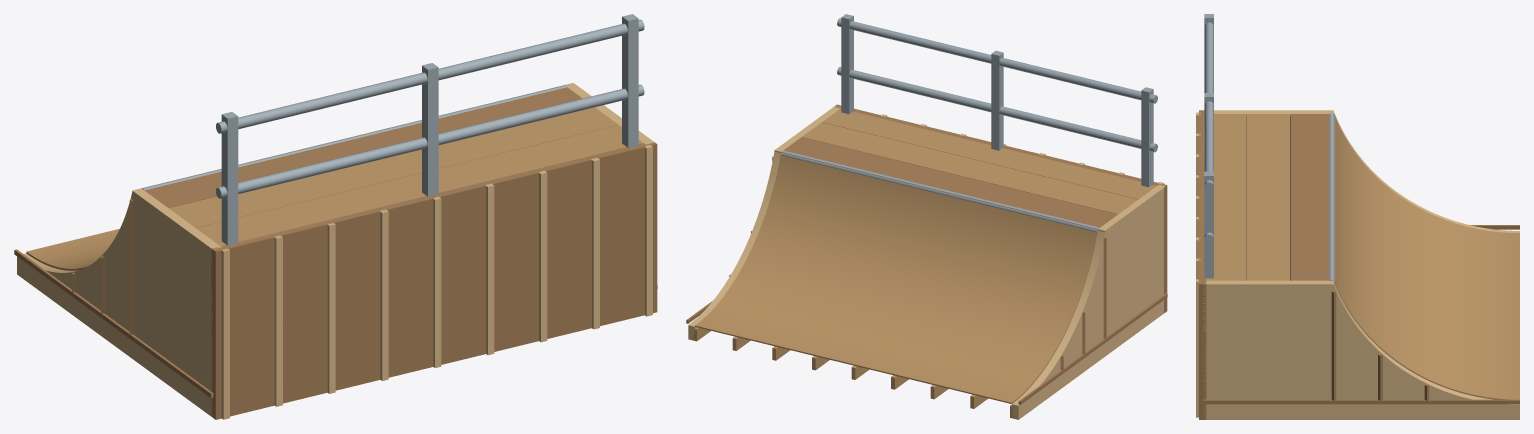
Rendered from skate_qp_round_mini.glb.
3 views of the same model, side by side, from view 1: azimuth 30°, elevation 25°; view 2: azimuth 150°, elevation 25°; view 3: azimuth 270°, elevation 25° (orthographic). The views are drawn at different scales.
Parts seen in each view (by area): view 1: VISUAL__round_closed_back, VISUAL__round_deck_side_left, VISUAL__round_deck_plank.002, VISUAL__round_deck_plank.001, VISUAL__round_deck_plank, VISUAL__round_side_left, VISUAL__round_backrail_rail, VISUAL__round_backrail_rail.001, VISUAL__round_backrail_post, VISUAL__round_ride, VISUAL__round_backrail_post.001, VISUAL__round_backrail_post.002 (+12 smaller); view 2: VISUAL__round_ride, VISUAL__round_deck_side_left, VISUAL__round_deck_plank.001, VISUAL__round_deck_plank, VISUAL__round_deck_plank.002, VISUAL__round_side_left, VISUAL__round_backrail_rail, VISUAL__round_backrail_rail.001, VISUAL__round_coping, VISUAL__round_closed_back, VISUAL__round_side_right, VISUAL__round_backrail_post (+4 smaller); view 3: VISUAL__round_ride, VISUAL__round_deck_side_right, VISUAL__round_side_right, VISUAL__round_deck_plank.001, VISUAL__round_deck_plank, VISUAL__round_deck_plank.002, VISUAL__round_closed_back, VISUAL__round_base_timber_right, VISUAL__round_backrail_rail.001, VISUAL__round_coping, VISUAL__round_backrail_post.002, VISUAL__round_exposed_side_stud_1_04 (+4 smaller).
Part boxes in pixels (<box>): VISUAL__round_closed_back: <box>211,142,657,419</box>; VISUAL__round_deck_side_left: <box>132,188,221,417</box>; VISUAL__round_deck_plank.002: <box>196,125,642,247</box>; VISUAL__round_deck_plank.001: <box>169,107,618,227</box>; VISUAL__round_deck_plank: <box>144,87,582,208</box>; VISUAL__round_side_left: <box>17,192,132,358</box>; VISUAL__round_backrail_rail: <box>216,84,644,198</box>; VISUAL__round_backrail_rail.001: <box>216,19,644,133</box>; VISUAL__round_backrail_post: <box>221,112,238,245</box>; VISUAL__round_ride: <box>26,85,561,270</box>; VISUAL__round_backrail_post.001: <box>422,63,438,196</box>; VISUAL__round_backrail_post.002: <box>622,14,638,147</box>; VISUAL__round_ride: <box>695,152,1097,403</box>; VISUAL__round_deck_side_left: <box>1098,184,1165,356</box>; VISUAL__round_deck_plank.001: <box>802,122,1137,214</box>; VISUAL__round_deck_plank: <box>782,137,1117,228</box>; VISUAL__round_deck_plank.002: <box>822,108,1156,199</box>; VISUAL__round_side_left: <box>1011,230,1104,419</box>; VISUAL__round_backrail_rail: <box>837,67,1157,152</box>; VISUAL__round_backrail_rail.001: <box>837,18,1157,103</box>; VISUAL__round_coping: <box>780,150,1099,232</box>; VISUAL__round_closed_back: <box>834,104,1167,313</box>; VISUAL__round_side_right: <box>688,151,780,340</box>; VISUAL__round_backrail_post: <box>1141,87,1153,187</box>; VISUAL__round_ride: <box>1333,114,1519,399</box>; VISUAL__round_deck_side_right: <box>1202,280,1333,419</box>; VISUAL__round_side_right: <box>1334,282,1519,419</box>; VISUAL__round_deck_plank.001: <box>1246,114,1289,280</box>; VISUAL__round_deck_plank: <box>1290,114,1329,280</box>; VISUAL__round_deck_plank.002: <box>1203,114,1246,280</box>; VISUAL__round_closed_back: <box>1199,110,1206,419</box>; VISUAL__round_base_timber_right: <box>1202,399,1519,404</box>; VISUAL__round_backrail_rail.001: <box>1204,22,1213,190</box>; VISUAL__round_coping: <box>1329,113,1335,284</box>; VISUAL__round_backrail_post.002: <box>1204,171,1213,278</box>; VISUAL__round_exposed_side_stud_1_04: <box>1331,291,1336,400</box>.
Size of the model in its own units: 3.17 by 2 by 2.46.
